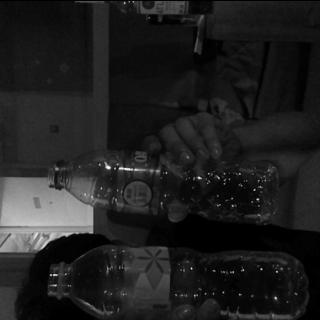plastic_bottles: (48, 249, 308, 316), (44, 156, 280, 216)
